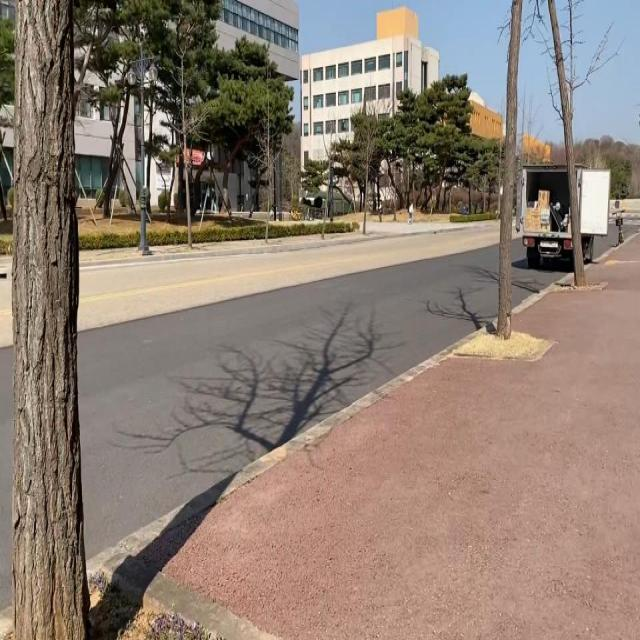sidewalk: (164, 236, 640, 639)
